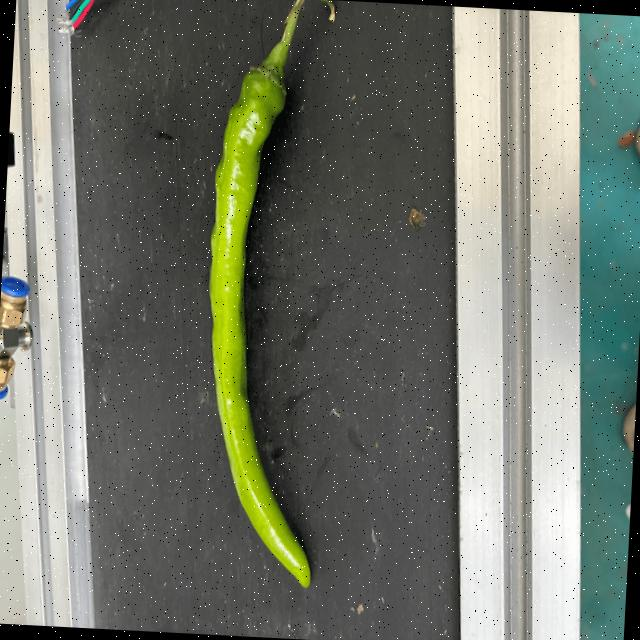chili: (206, 58, 312, 594)
